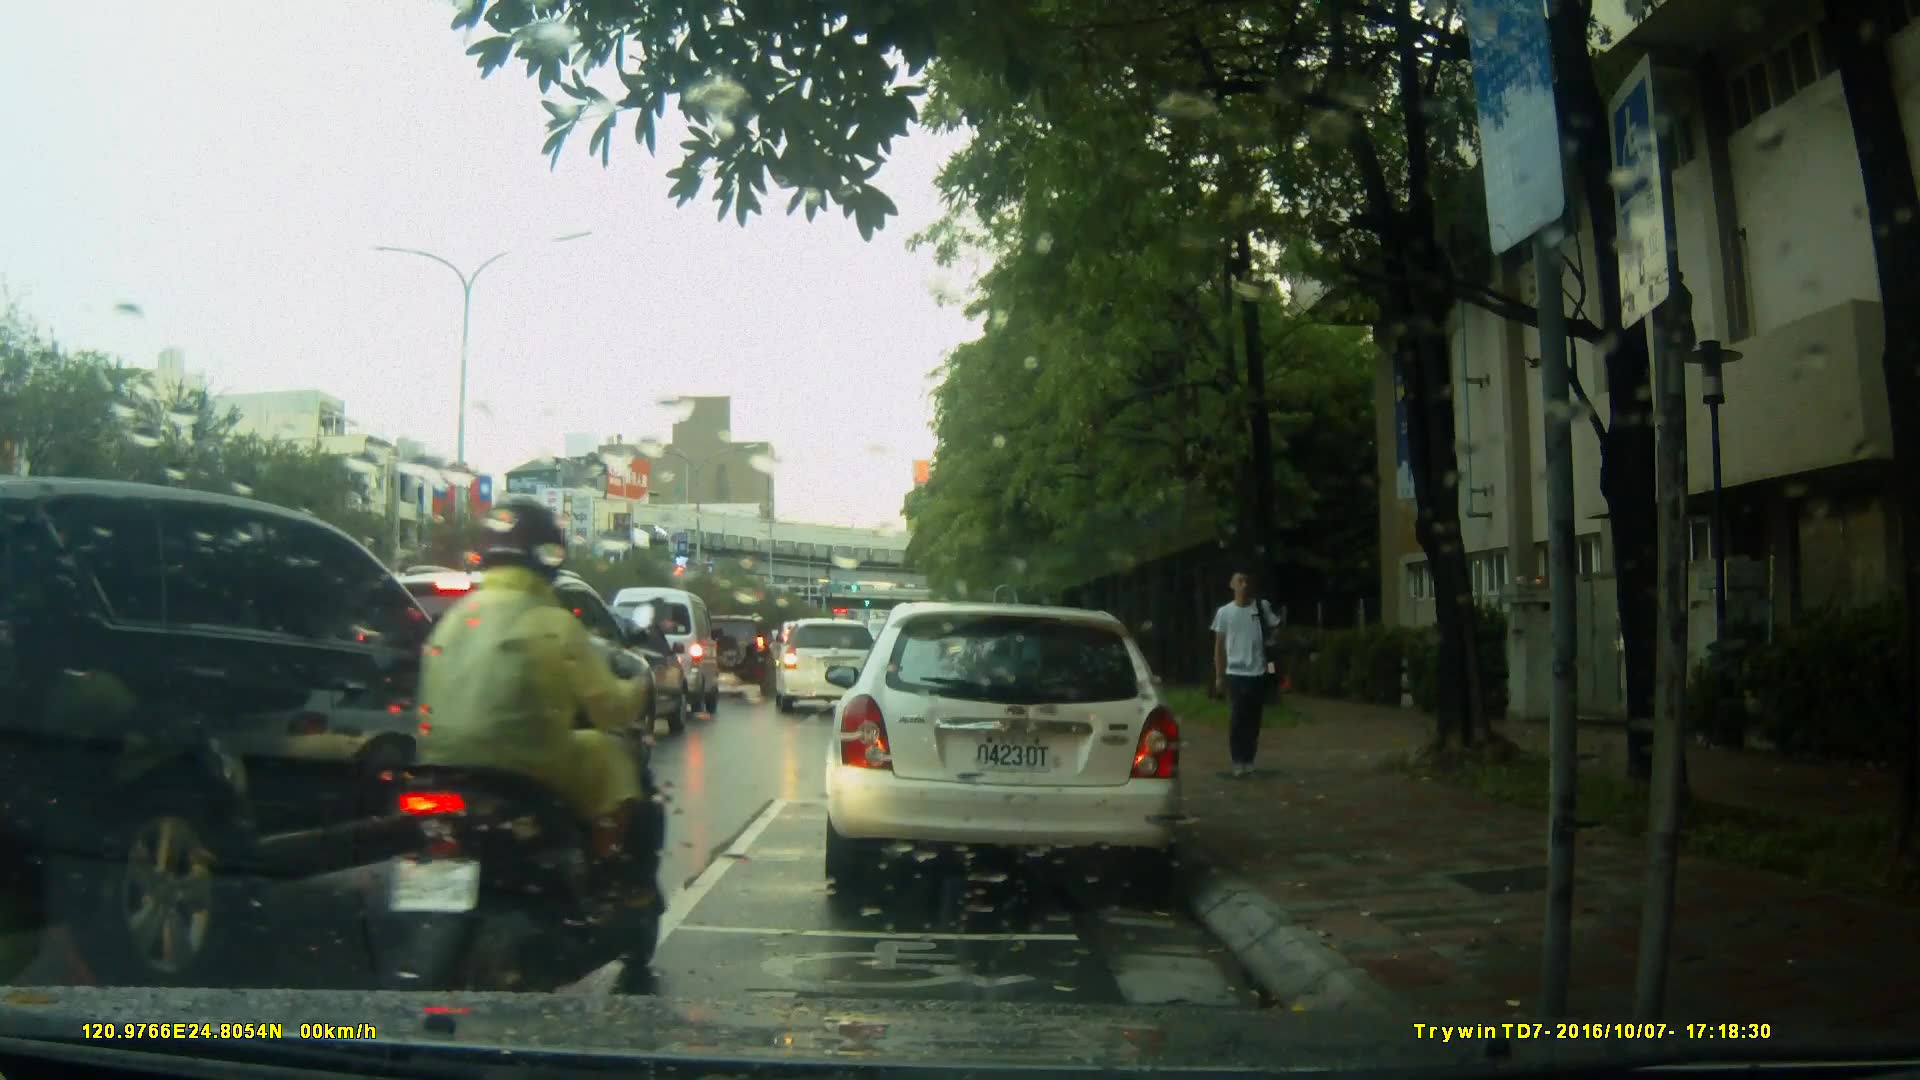pedestrian: (1205, 564, 1289, 793)
rider: (390, 504, 658, 1004)
vehicle: (1, 472, 538, 987), (820, 602, 1188, 898), (348, 563, 661, 789), (540, 599, 697, 735), (601, 585, 724, 721), (772, 617, 886, 714), (685, 611, 776, 697)
